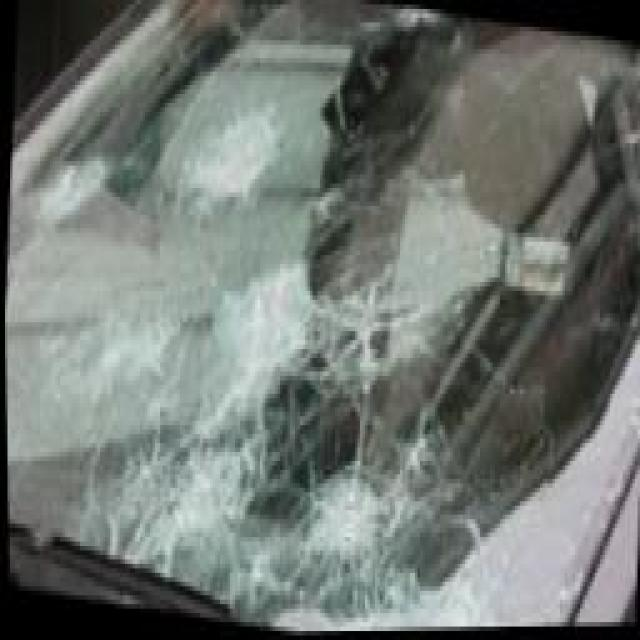Windshield: (4, 0, 640, 634)
